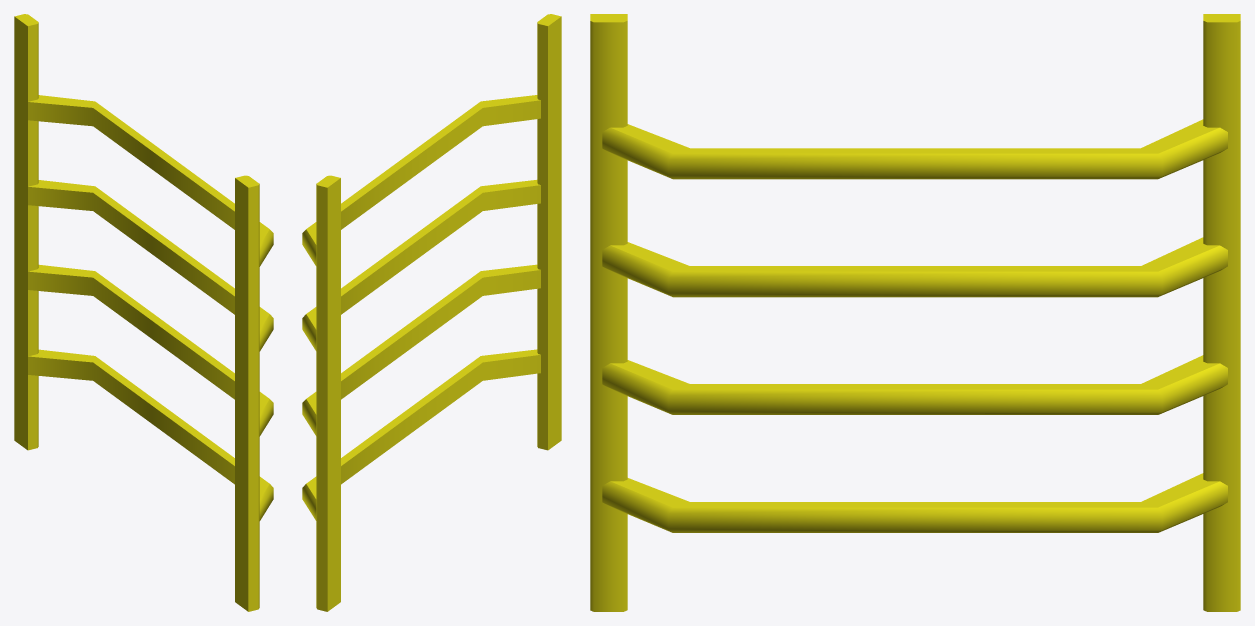
Rendered from Pipes_Frame.fbx.
3 renders of one model, left to right at view 1: azimuth 30°, elevation 25°; view 2: azimuth 150°, elevation 25°; view 3: azimuth 270°, elevation 25°, orthographic. The views are drawn at different scales.
Visible parts, largest first — view 1: Pipes_Frame; view 2: Pipes_Frame; view 3: Pipes_Frame.
Part boxes in pixels (x1,y1,x2,y2): Pipes_Frame: (14, 14, 273, 611); Pipes_Frame: (302, 14, 561, 611); Pipes_Frame: (590, 14, 1240, 611).
Bounding box in the file's own units: 52.52 × 400 × 400.
